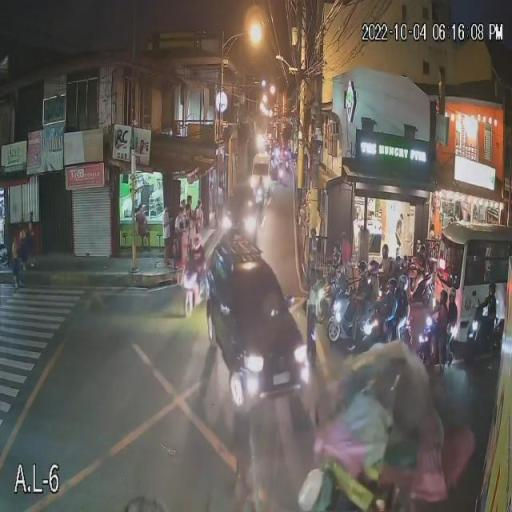helmet: (191, 233, 203, 253), (356, 260, 368, 279), (368, 259, 380, 277), (398, 273, 408, 292), (438, 289, 448, 306), (487, 282, 498, 297), (448, 286, 457, 304), (388, 278, 398, 294), (416, 244, 427, 258), (380, 244, 390, 258)
motorcycle: (418, 310, 458, 366), (361, 314, 416, 346), (327, 299, 363, 342), (180, 264, 208, 319), (466, 315, 503, 356), (396, 292, 411, 340)
rider: (349, 282, 368, 350), (431, 305, 449, 369), (382, 294, 399, 341), (190, 250, 207, 294), (446, 303, 458, 365), (482, 294, 497, 339), (363, 281, 379, 323)
